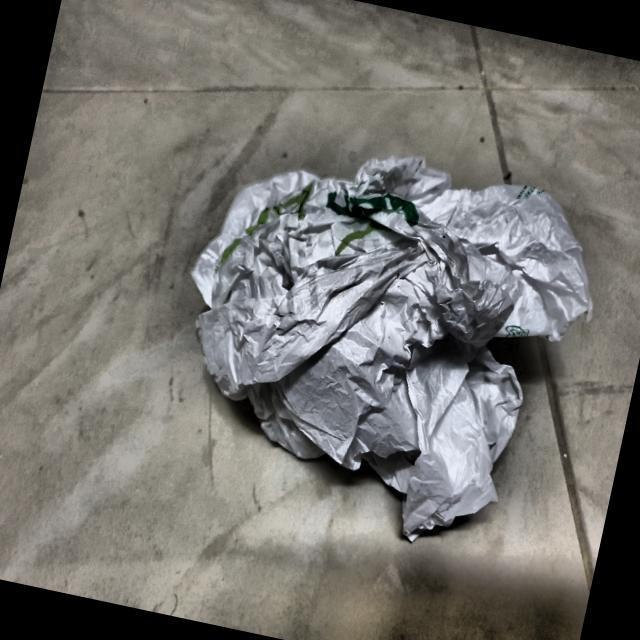plastic bag: (128, 96, 634, 582)
